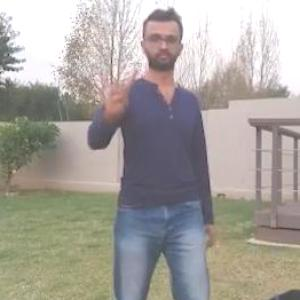takeoff-hand: (95, 63, 135, 120)
